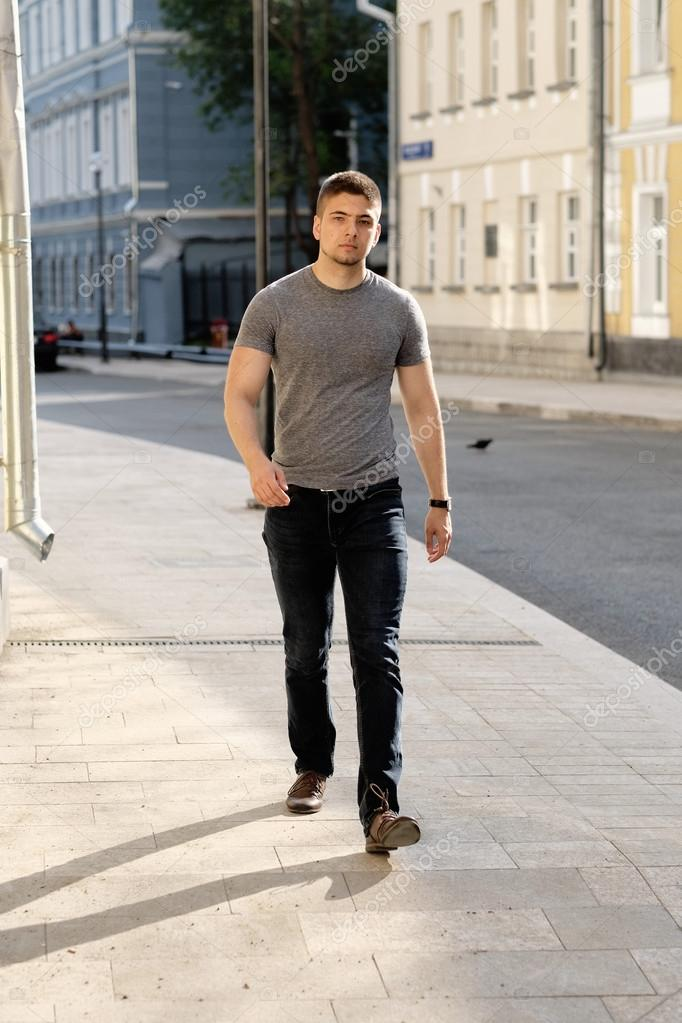person: (218, 166, 456, 858)
